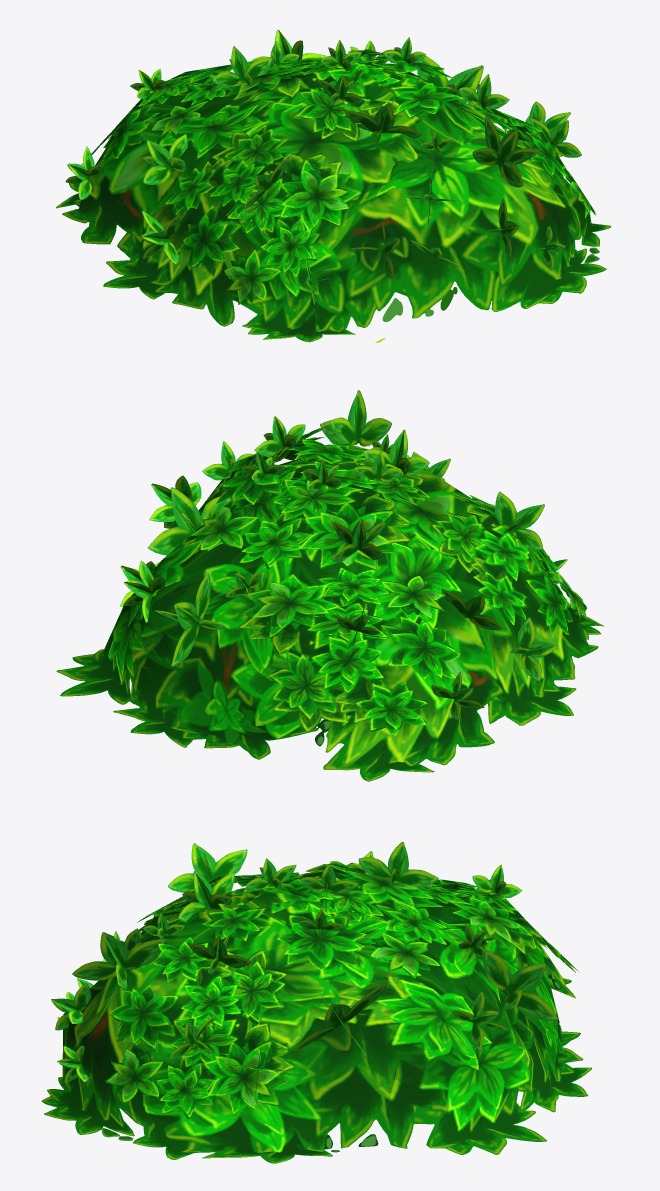
File: arbusto.fbx
3 views of the same model, one above another, from view 1: azimuth 30°, elevation 25°; view 2: azimuth 150°, elevation 25°; view 3: azimuth 270°, elevation 25° (orthographic). The views are drawn at different scales.
Visible parts, largest first — view 1: arbusto; view 2: arbusto; view 3: arbusto.
Boxes of the visible parts, x1=… form: arbusto: x1=56, y1=30, x2=611, y2=342; arbusto: x1=56, y1=390, x2=603, y2=781; arbusto: x1=41, y1=842, x2=591, y2=1163.
Size of the model in its own units: 1140 by 443 by 1203.
1 material, 1 textured.
